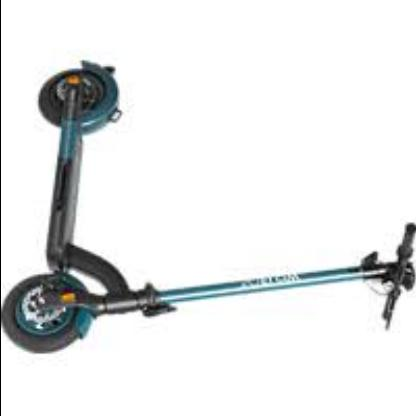bike: (2, 60, 413, 356)
